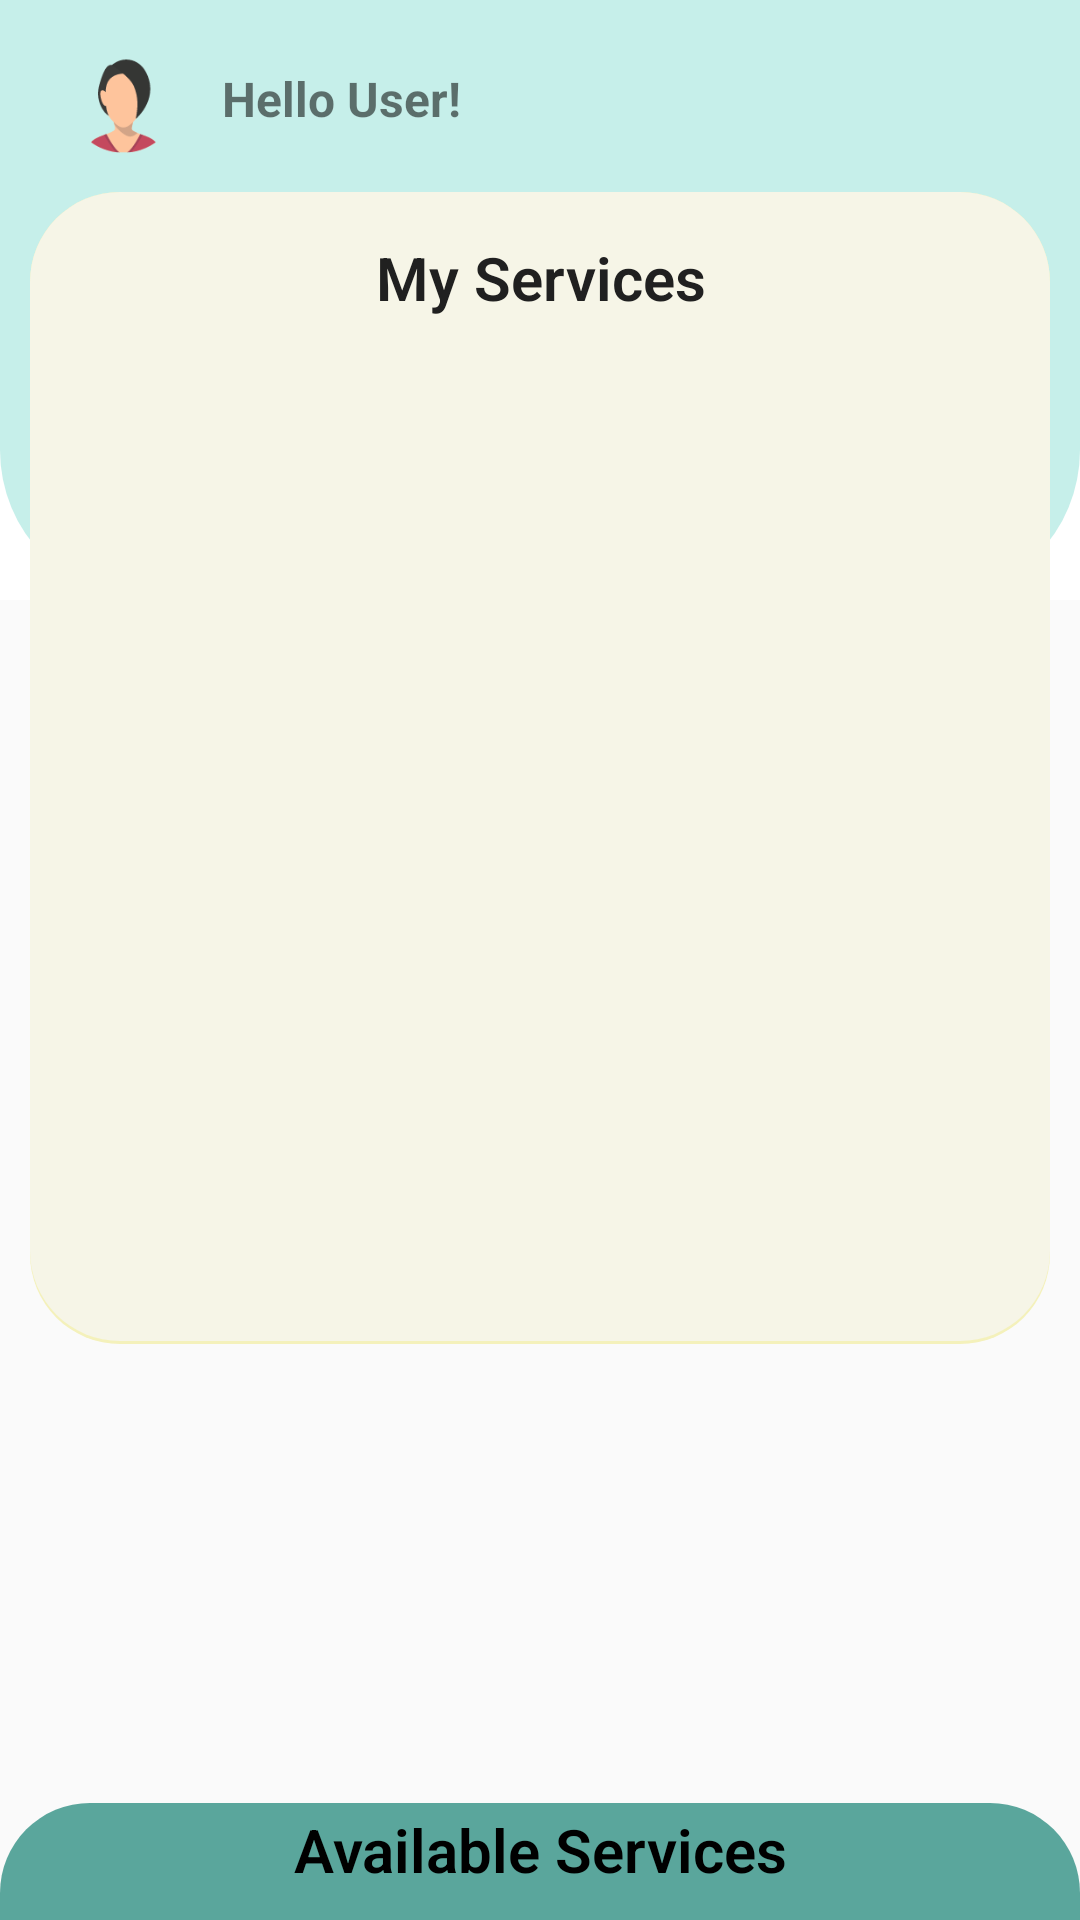

Point at icon controls on the screen. Image size 1080w x 1920h, points as (x=x, y=y).
profile: (x=123, y=106)
